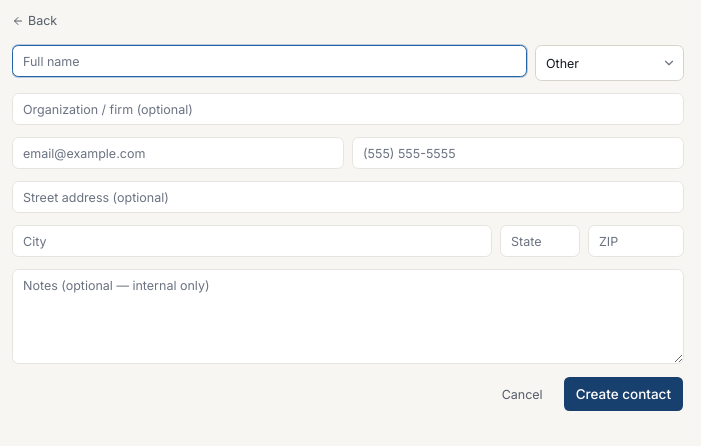
Scenario: ContactForm › keeps what was typed and shows the field error after a validation failure
Type "Dana Whitfield" into the field with placeholder "Full name".
click(270, 61); type("Dana Whitfield")  # box [12,45,527,77]
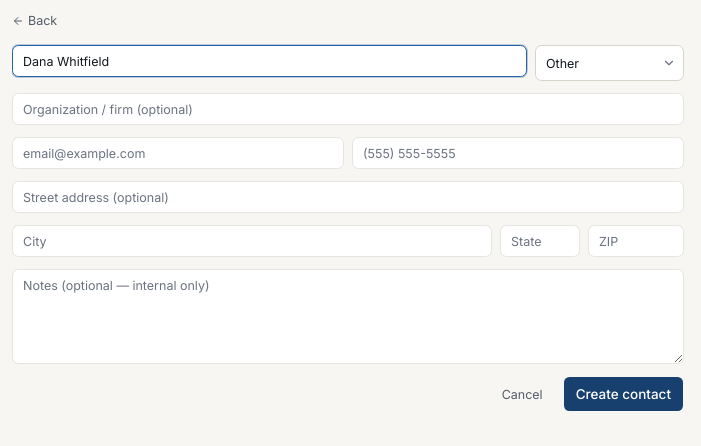
Type "bad" into the field with placeholder "email@example.com".
click(178, 153); type("bad")  # box [12,137,344,169]
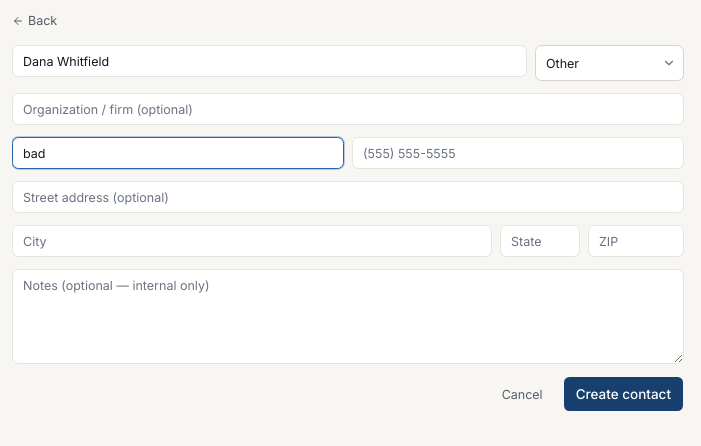
Click the button "Create contact".
click(623, 394)  # box [563,376,684,412]
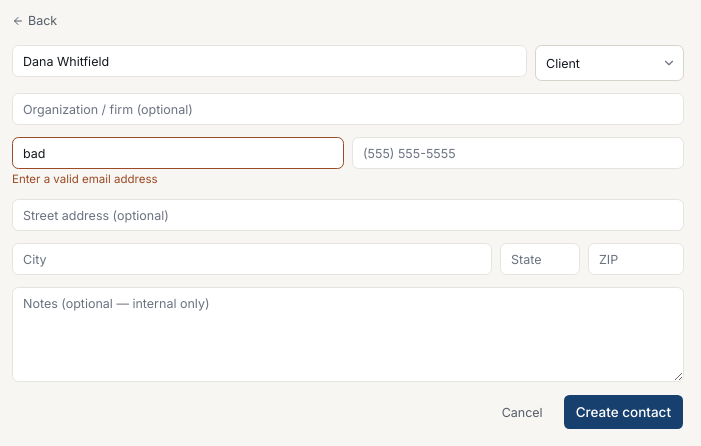
expect the text "Enter a valid email address" is shown: met, box [12,172,158,186]
